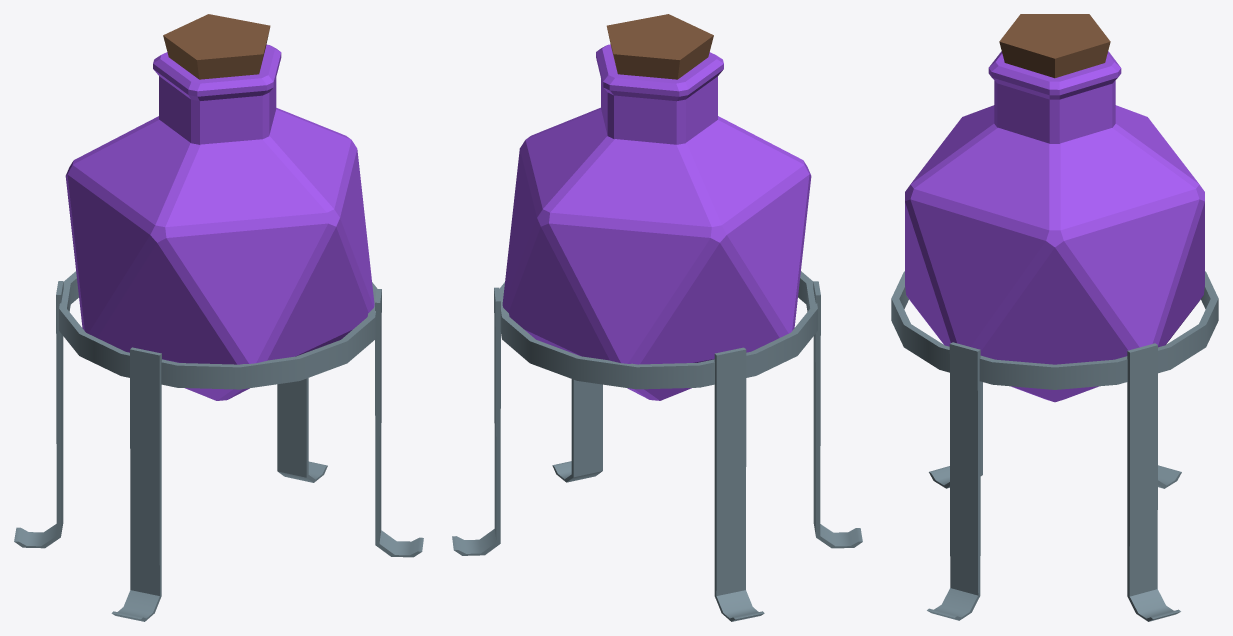
Rendered from Potion_06_Purple.fbx.
The picture shows the model from 3 angles, left to right: view 1: azimuth 30°, elevation 25°; view 2: azimuth 150°, elevation 25°; view 3: azimuth 270°, elevation 25°; orthographic projection.
Parts seen in each view (by area): view 1: Icosphere.011, Cube.057, Cylinder.070, Cylinder.069, Cylinder.071, Cube.058, Cube.059, Cube.056; view 2: Icosphere.011, Cube.059, Cylinder.070, Cylinder.069, Cylinder.071, Cube.056, Cube.057, Cube.058; view 3: Icosphere.011, Cube.058, Cube.056, Cylinder.070, Cylinder.069, Cylinder.071, Cube.057.
Part boxes in pixels (x1,y1,x2,y2): Icosphere.011: [65, 108, 374, 400]; Cube.057: [111, 347, 161, 621]; Cylinder.070: [153, 44, 281, 144]; Cylinder.069: [59, 271, 377, 389]; Cylinder.071: [163, 14, 270, 79]; Cube.058: [277, 378, 327, 482]; Cube.059: [14, 281, 63, 548]; Cube.056: [375, 289, 423, 557]; Icosphere.011: [502, 107, 811, 400]; Cube.059: [714, 347, 764, 621]; Cylinder.070: [596, 44, 723, 144]; Cylinder.069: [499, 271, 817, 389]; Cylinder.071: [606, 14, 713, 79]; Cube.056: [552, 379, 602, 482]; Cube.057: [813, 281, 862, 548]; Cube.058: [452, 287, 500, 555]; Icosphere.011: [905, 105, 1204, 402]; Cube.058: [1127, 343, 1180, 621]; Cube.056: [927, 342, 980, 620]; Cylinder.070: [988, 51, 1121, 143]; Cylinder.069: [891, 271, 1218, 389]; Cylinder.071: [999, 14, 1110, 78]; Cube.057: [929, 381, 982, 488].
Size of the model in its own units: 25.27 by 39.03 by 22.52.
